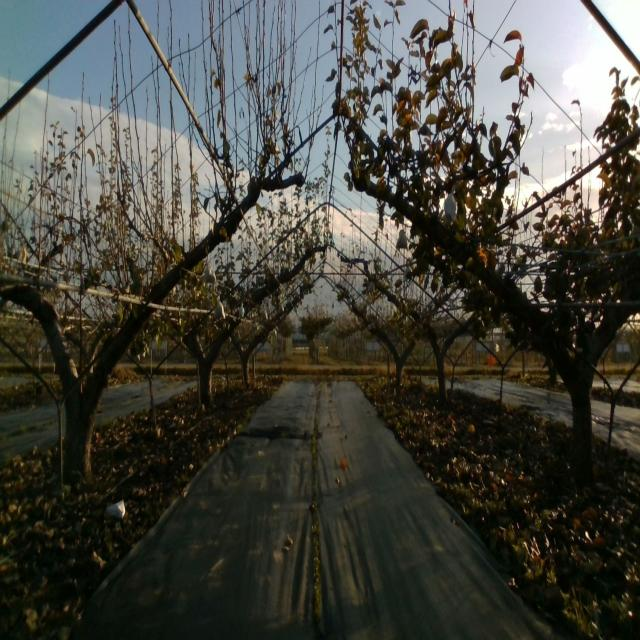pearbags: (443, 191, 458, 222), (213, 300, 226, 322), (202, 264, 216, 284), (394, 230, 408, 249)
